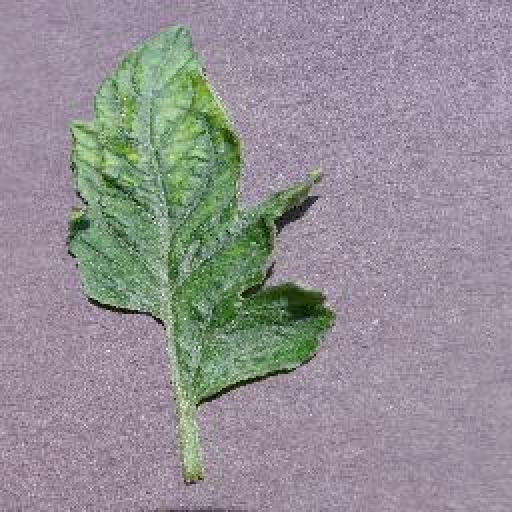disease_tomato: (68, 20, 340, 406)
